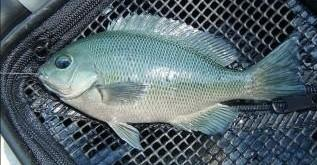fish: (35, 15, 306, 150)
